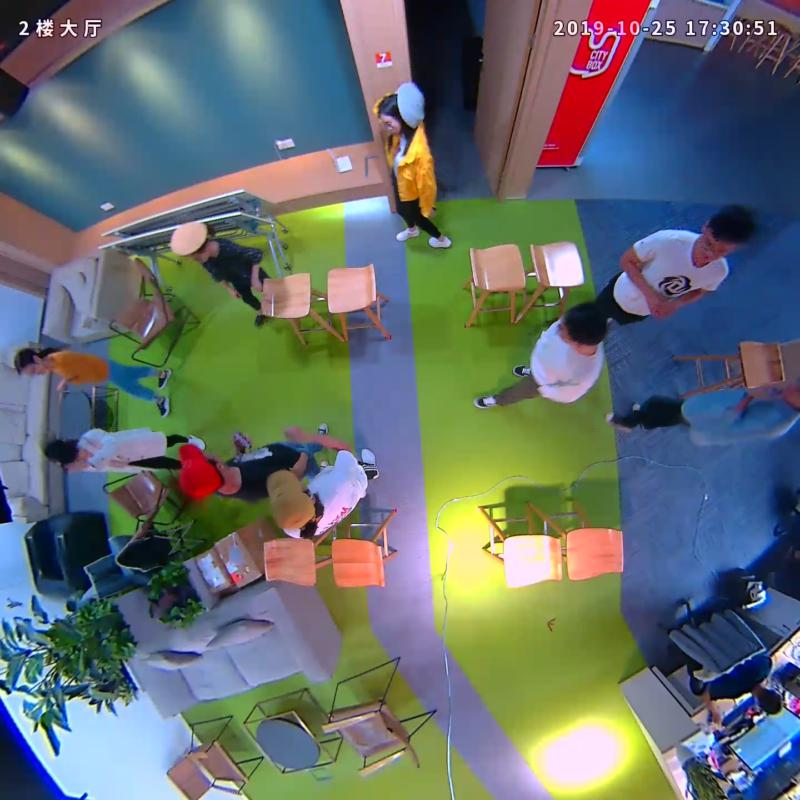head: (696, 204, 757, 262), (264, 468, 319, 531), (176, 442, 225, 501), (556, 301, 607, 346), (169, 218, 213, 263), (376, 94, 406, 134), (13, 348, 49, 377), (42, 440, 78, 466)
